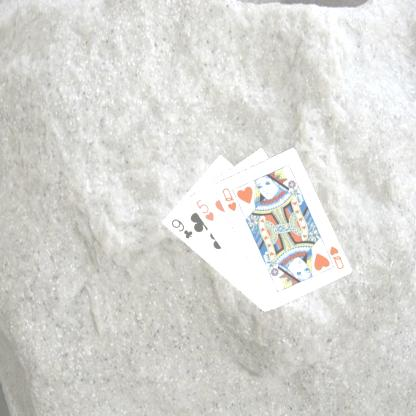5H: (193, 196, 215, 223)
9C: (168, 216, 194, 240)
QH: (321, 242, 345, 270), (219, 185, 237, 213)
